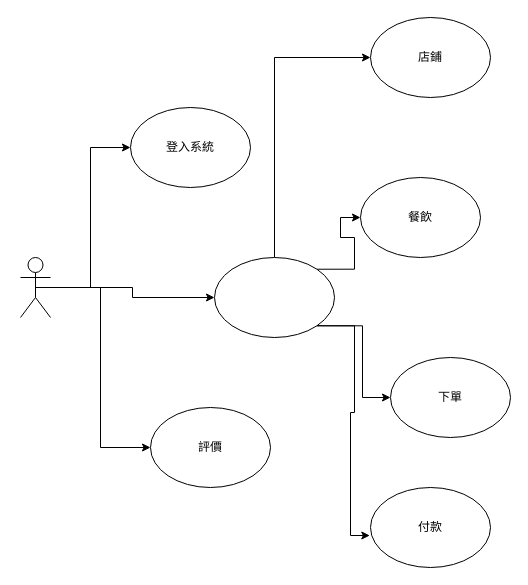
This 528x585 diagram has some shape labels left out. The shapes that lost their labels are listed below. From the top down, each one's box as (x1, y1, x2, y2) in pixels, then its label:
(20, 256, 50, 318): 訂餐人
(214, 256, 334, 338): 訂餐
